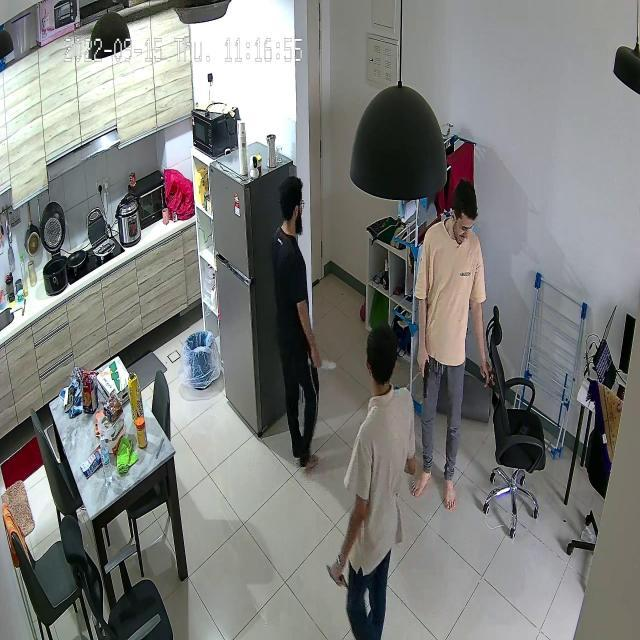Gun: (415, 353, 443, 405)
Knife: (302, 349, 346, 379)
